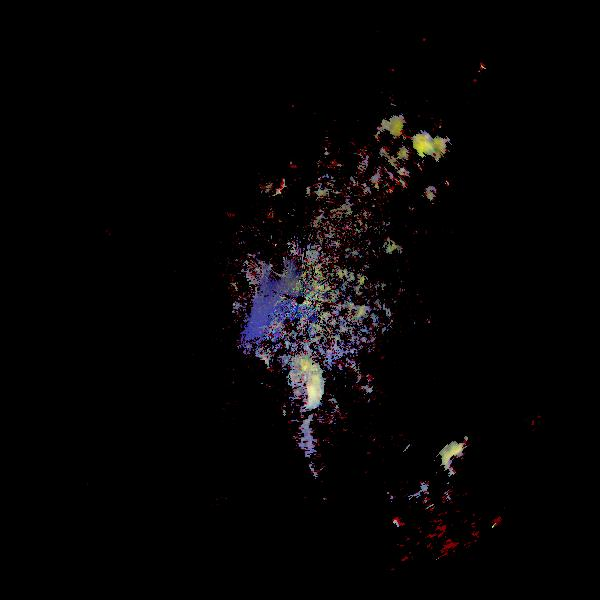roost: (252, 344, 333, 425), (441, 441, 483, 483), (254, 163, 290, 199), (528, 415, 558, 445)
